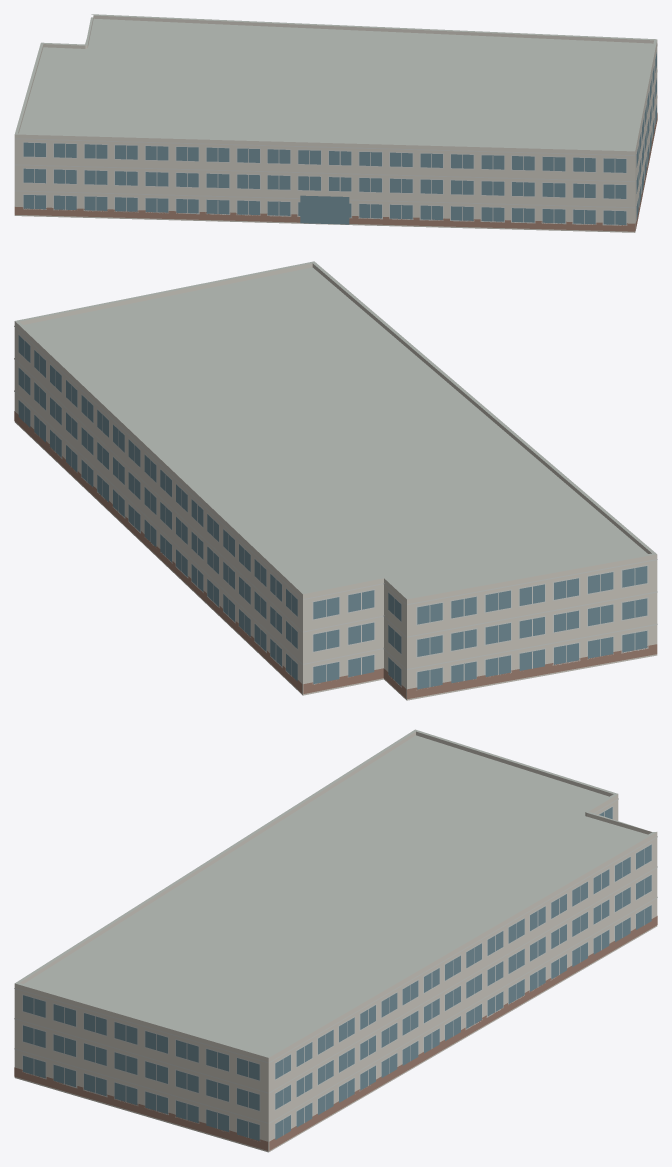
File: public-2c2a995d-b7bf-4c63-80c9-33a49d505f0b.glb
The picture shows the model from 3 angles, top to bottom: view 1: azimuth 30°, elevation 25°; view 2: azimuth 150°, elevation 25°; view 3: azimuth 270°, elevation 25°; orthographic projection. The views are drawn at different scales.
Visible parts, largest first — view 1: public-2c2a995d-b7bf-4c63-80c9-33a49d505f0b; view 2: public-2c2a995d-b7bf-4c63-80c9-33a49d505f0b; view 3: public-2c2a995d-b7bf-4c63-80c9-33a49d505f0b.
Boxes of the visible parts, left/top/right/bottom form: public-2c2a995d-b7bf-4c63-80c9-33a49d505f0b: left=14, top=14, right=657, bottom=232; public-2c2a995d-b7bf-4c63-80c9-33a49d505f0b: left=14, top=261, right=657, bottom=700; public-2c2a995d-b7bf-4c63-80c9-33a49d505f0b: left=14, top=729, right=657, bottom=1152.
Size of the model in its own units: 68.25 by 9.15 by 56.45.
